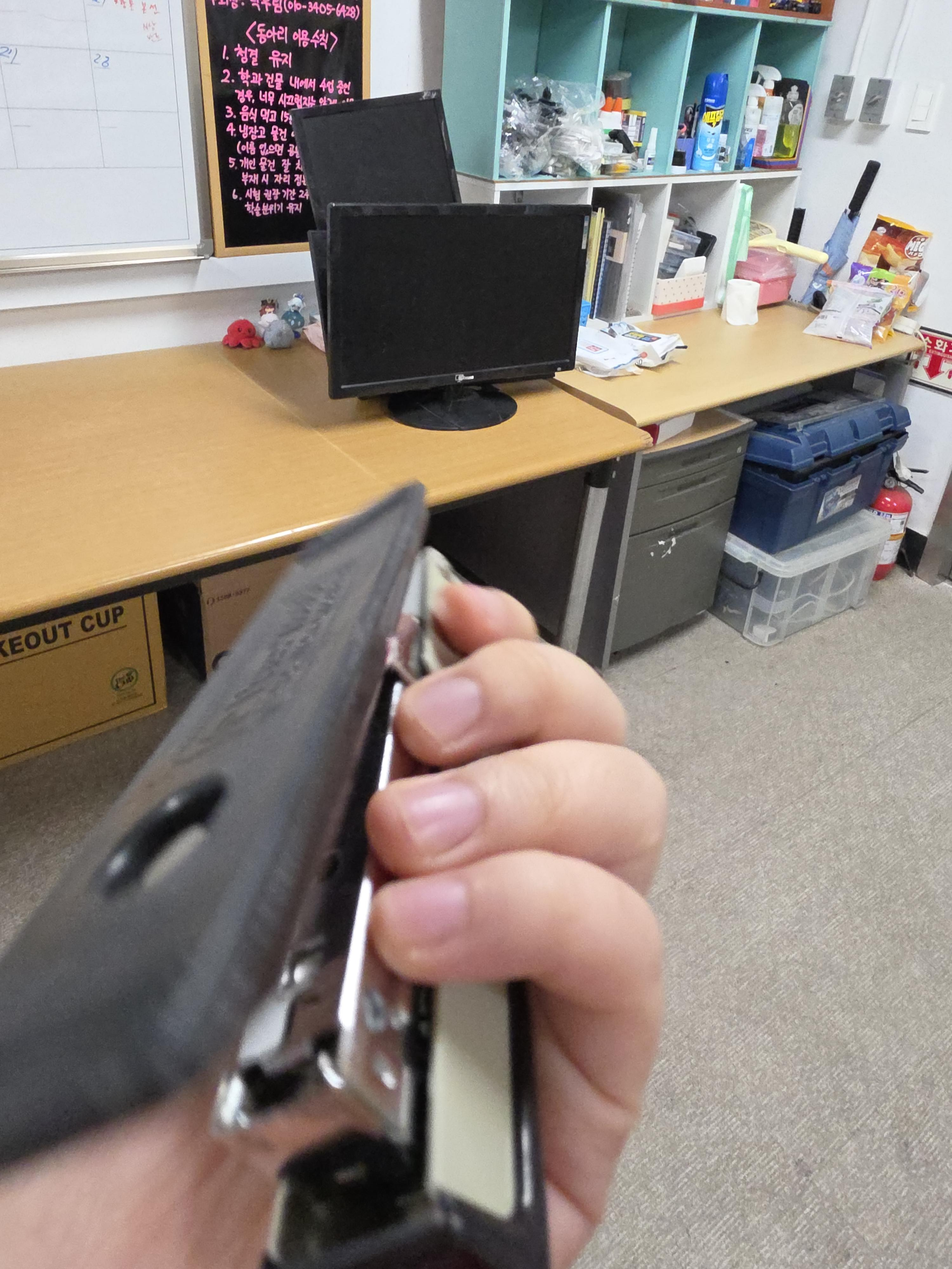stapler: (0, 480, 554, 1268)
tissue: (651, 255, 707, 317), (723, 278, 761, 326)
